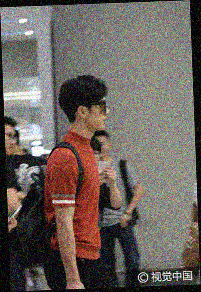without_mask: (83, 98, 111, 133), (5, 130, 18, 157), (93, 140, 111, 159)
